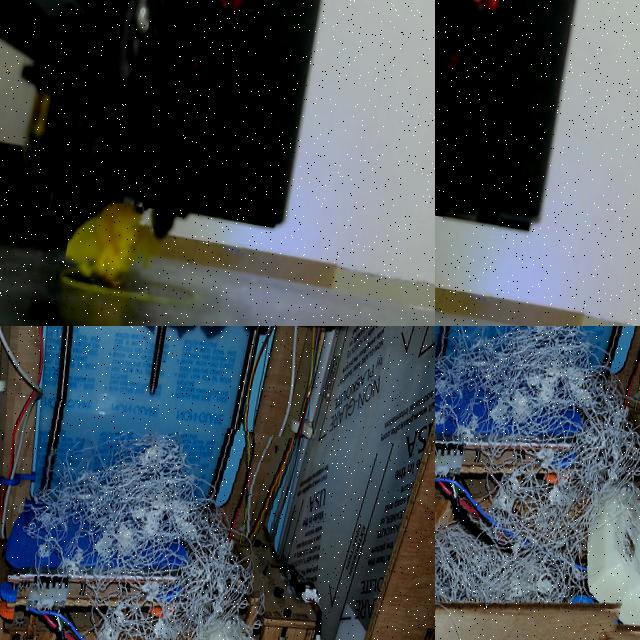spaghetti: (0, 399, 301, 640), (435, 326, 640, 640), (65, 202, 149, 283)
